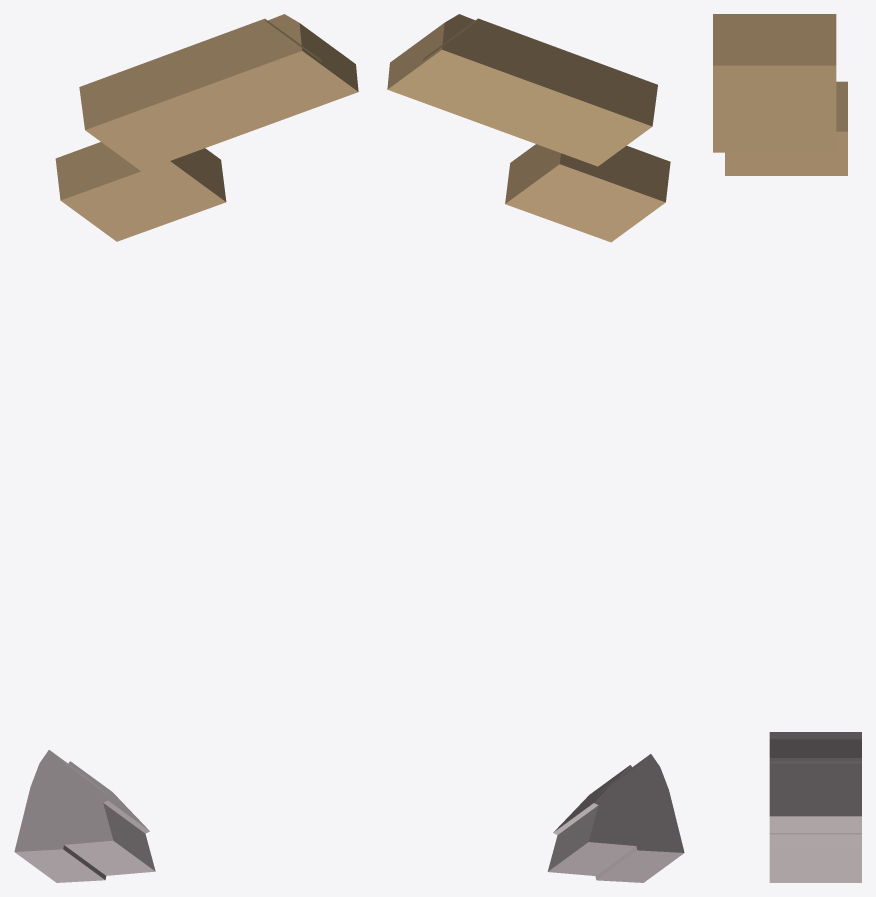
The picture shows the model from 3 angles, left to right: view 1: azimuth 30°, elevation 25°; view 2: azimuth 150°, elevation 25°; view 3: azimuth 270°, elevation 25°; orthographic projection. The views are drawn at different scales.
Visible parts, largest first — view 1: 0_3_0_1_1_2_0; view 2: 0_3_0_1_1_2_0; view 3: 0_3_0_1_1_2_0.
Boxes of the visible parts, <box> form: 0_3_0_1_1_2_0: <box>14,14,358,882</box>; 0_3_0_1_1_2_0: <box>387,14,684,882</box>; 0_3_0_1_1_2_0: <box>713,14,861,882</box>.
Size of the model in its own units: 67.82 by 187 by 29.
